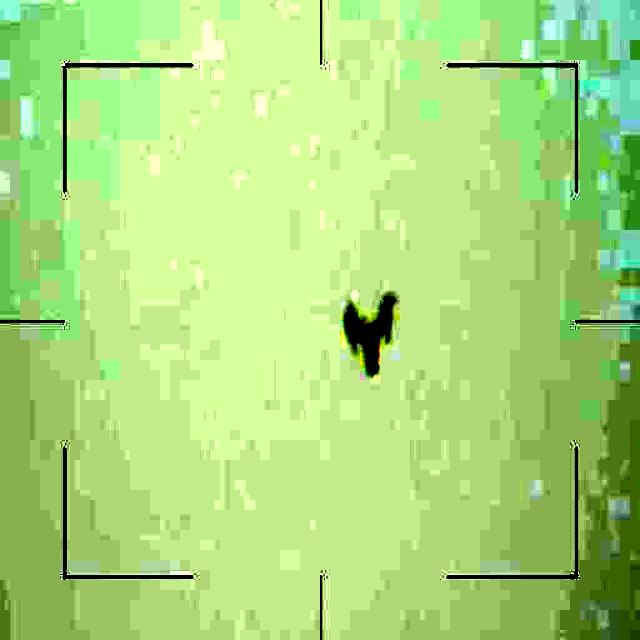bird: (338, 291, 400, 384)
